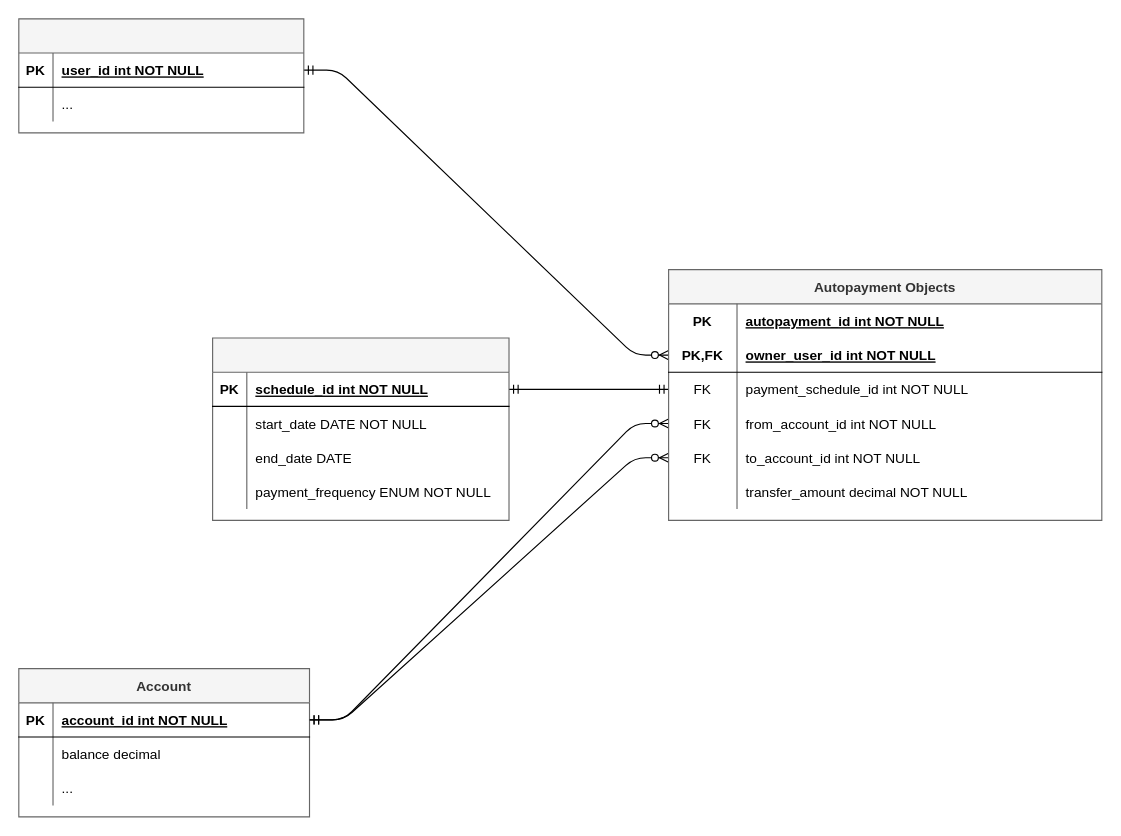
Image size: 1121x836. Some labels were removed from this diagram. The shapes that lost their labels are listed below. From the top down, each one's box as (x1, y1, x2, y2) in pixels, then its label:
(18, 18, 304, 133): Customers
(211, 337, 509, 520): Payment Schedules
